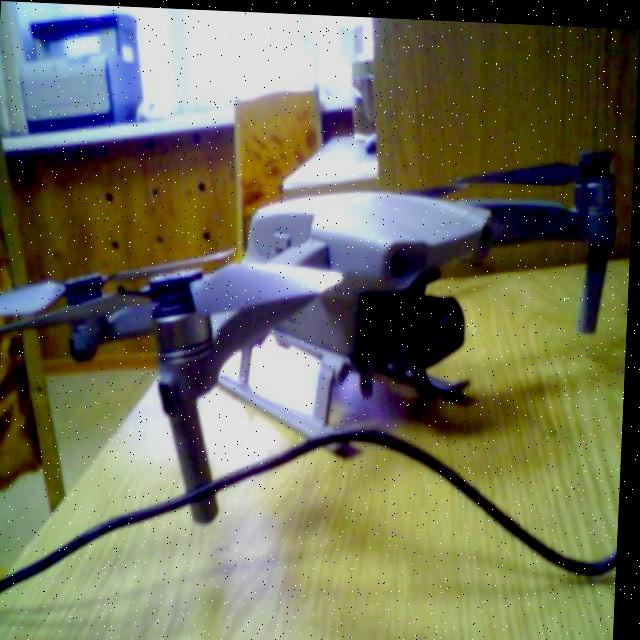drone: (0, 110, 636, 532)
